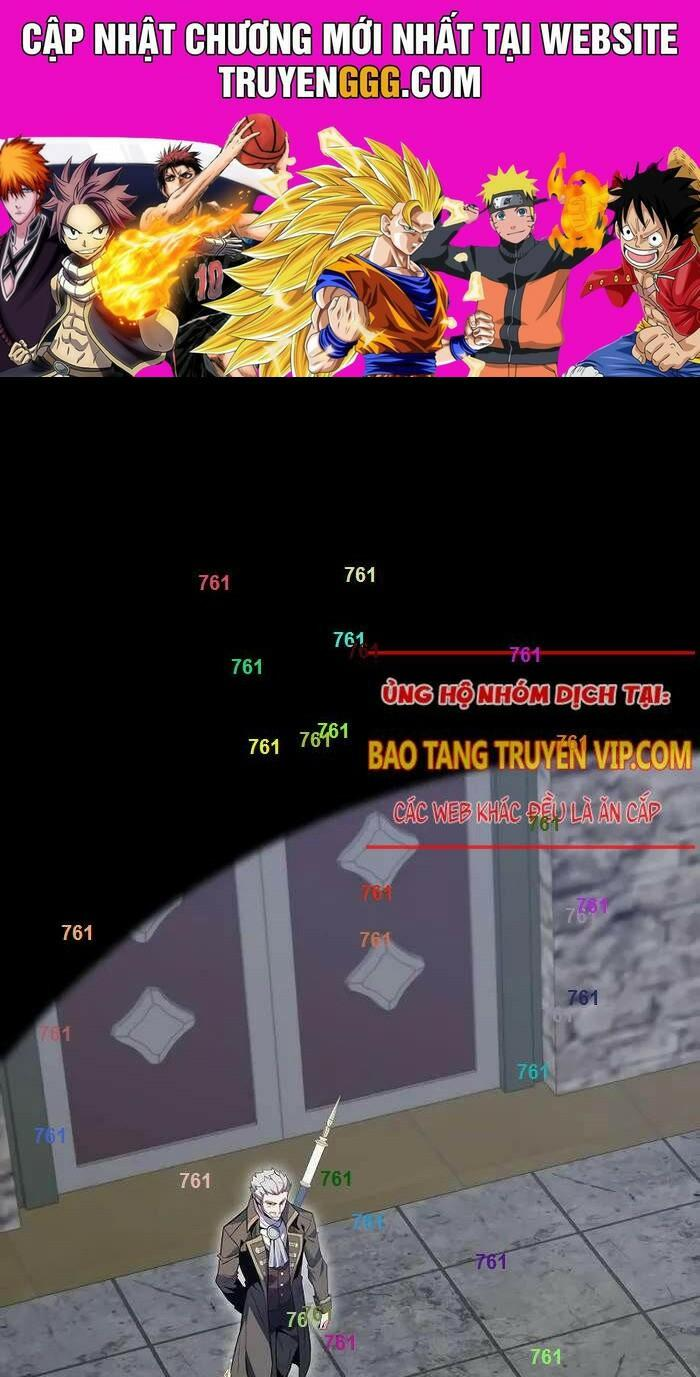quangcao: (2, 0, 699, 384), (370, 650, 700, 852)
